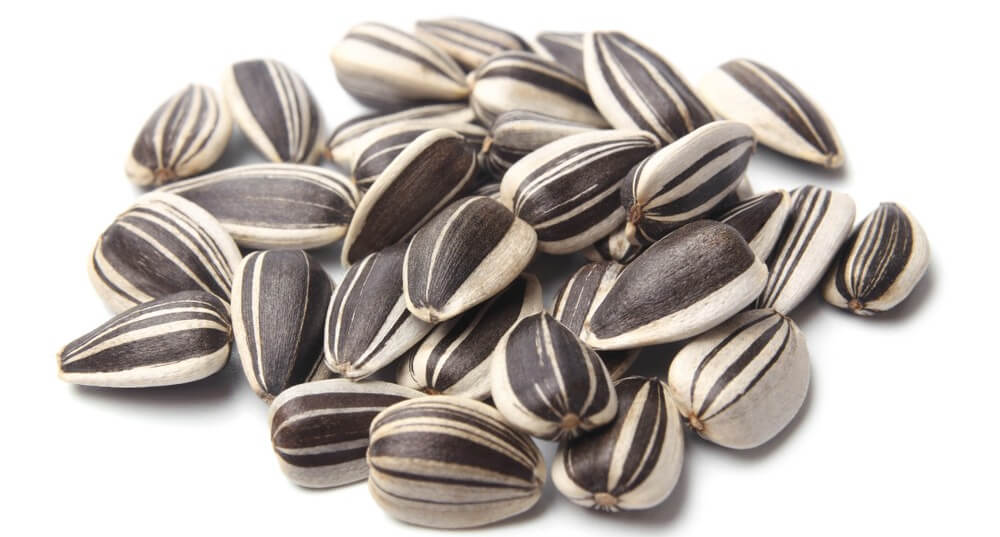seed: (50, 10, 943, 536)
